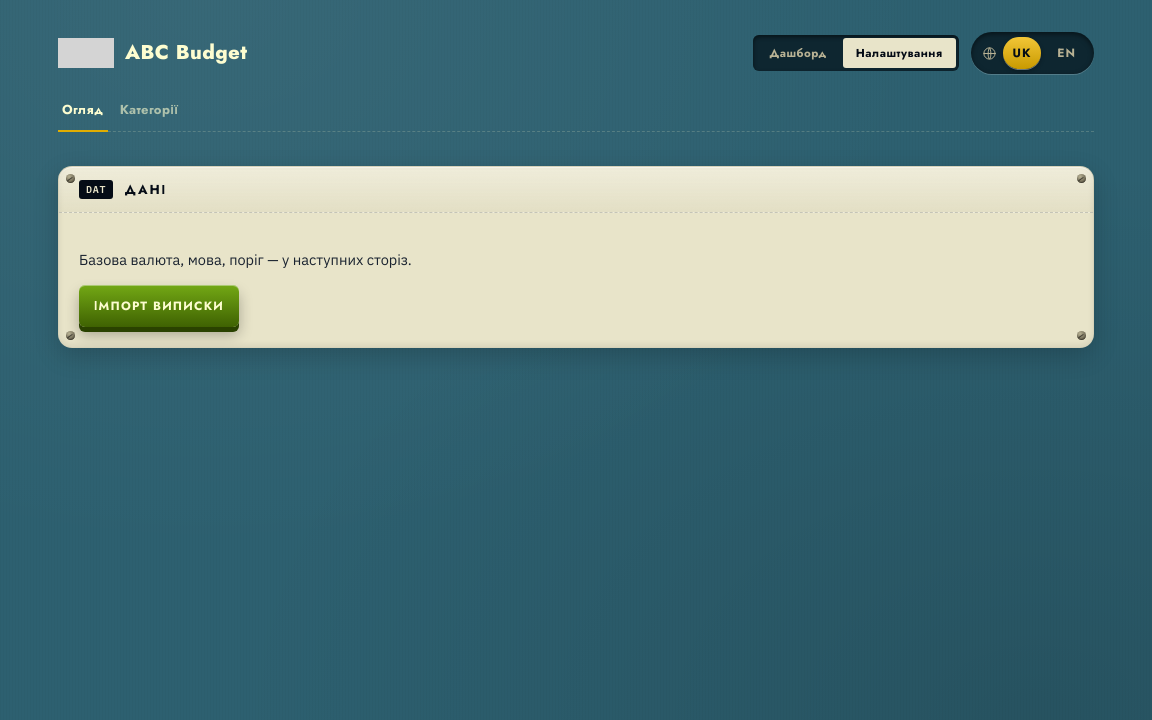
Scenario: FEAT-030 link map › Settings tabs switch in-page (no route change)
Click the button "Категорії" at (149, 112), box [116,92,182,132]
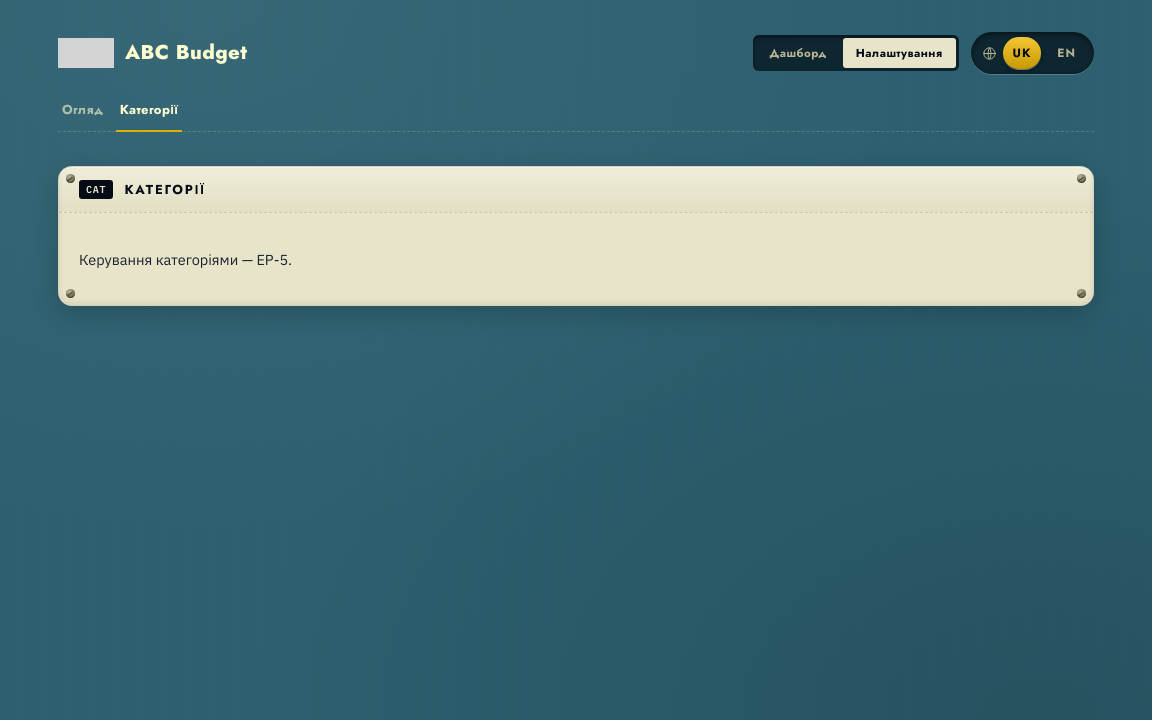
expect the element with test id "screen-settings" is shown: met, box [36,0,1116,338]
expect the element with test id "tab-categories" is shown: met, box [58,166,1094,306]
